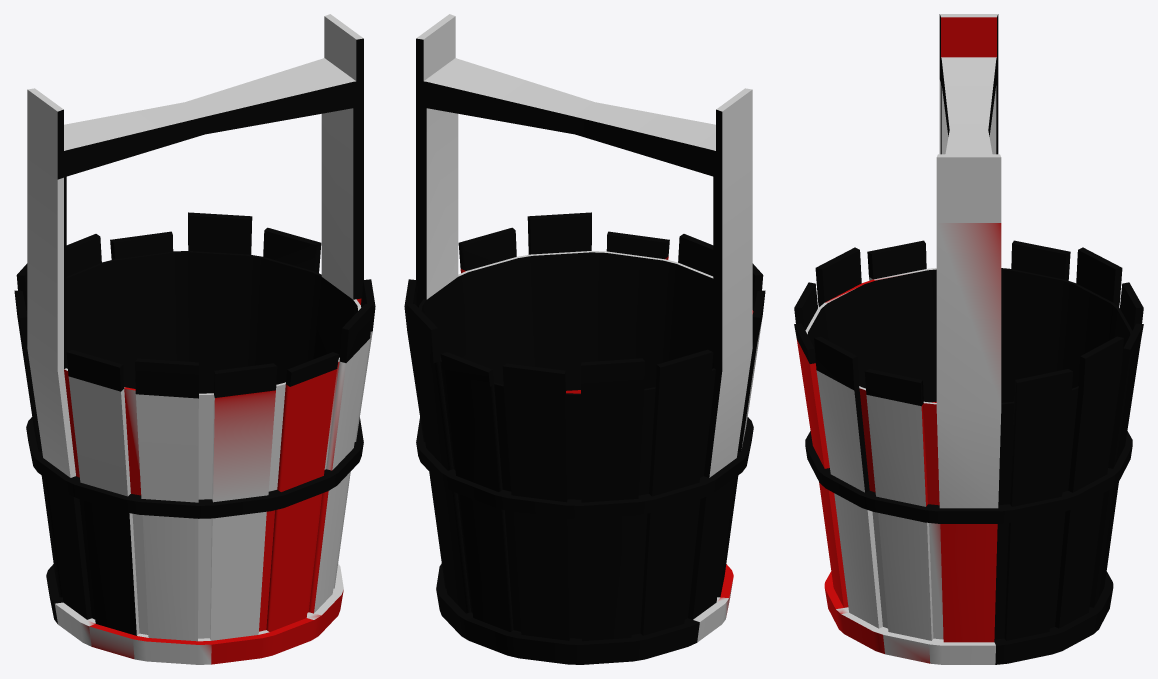
Rendered from Hink.fbx.
3 views of the same model, side by side, from view 1: azimuth 30°, elevation 25°; view 2: azimuth 150°, elevation 25°; view 3: azimuth 270°, elevation 25° (orthographic). The views are drawn at different scales.
Parts seen in each view (by area): view 1: bucket; view 2: bucket; view 3: bucket.
Part boxes in pixels (x1,y1,x2,y2): bucket: (14,14,375,664); bucket: (404,14,765,664); bucket: (794,14,1143,664).
Bounding box in the file's own units: 91.82 × 156 × 94.7.
